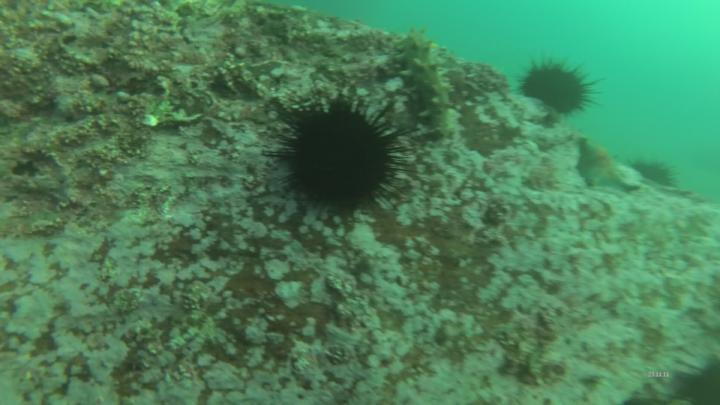echinus: (258, 85, 418, 235), (515, 54, 607, 121), (632, 154, 681, 190)
holothurian: (392, 25, 466, 145)
starfish: (572, 135, 644, 195)
